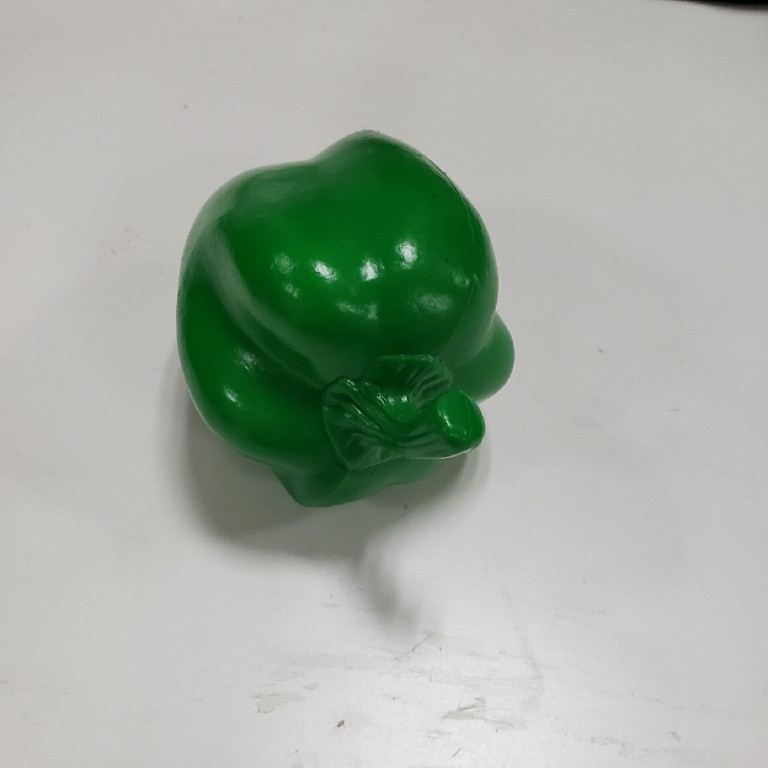fruit_pepper: (168, 126, 522, 512)
